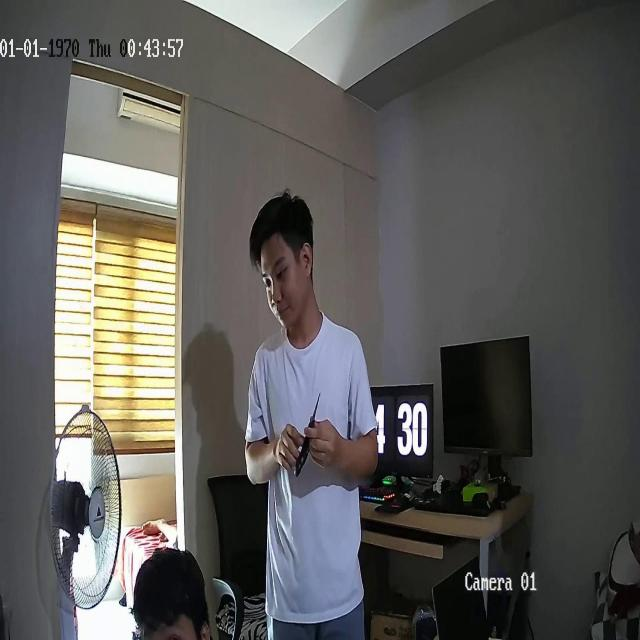scissor: (294, 390, 321, 478)
